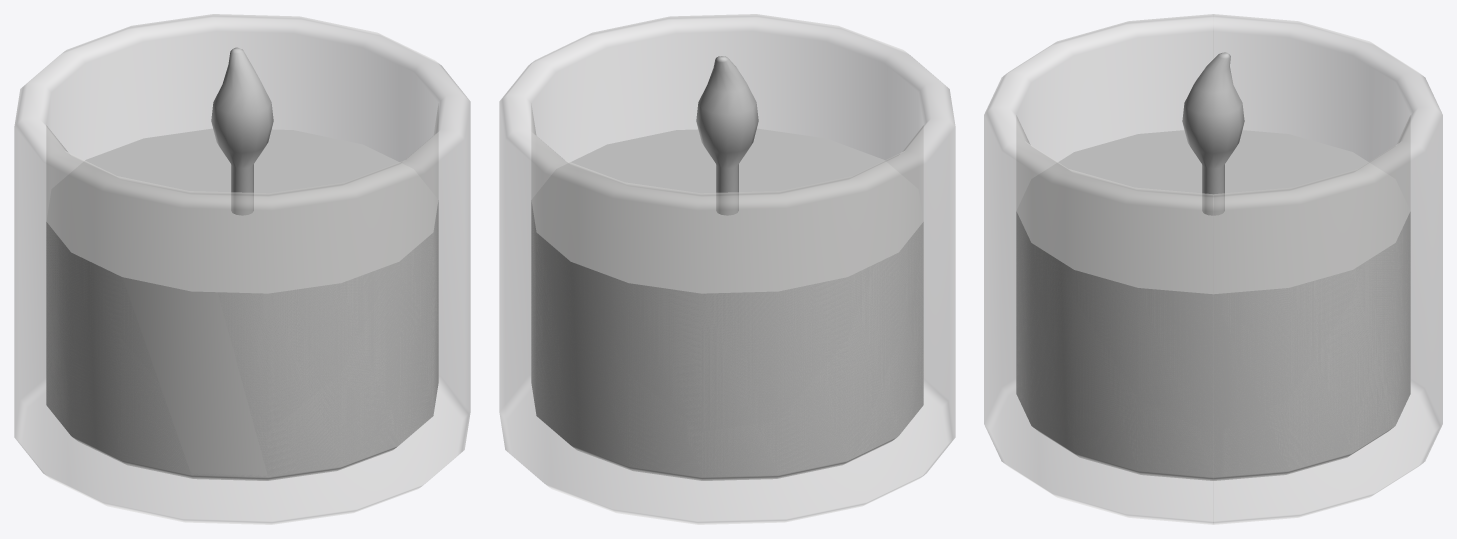
The model's file is Candle_3.fbx.
3 views of the same model, side by side, from view 1: azimuth 30°, elevation 25°; view 2: azimuth 150°, elevation 25°; view 3: azimuth 270°, elevation 25° (orthographic).
Parts seen in each view (by area): view 1: Candle_3; view 2: Candle_3; view 3: Candle_3.
Part boxes in pixels (x1=…): Candle_3: x1=14, y1=14, x2=470, y2=524; Candle_3: x1=499, y1=14, x2=955, y2=524; Candle_3: x1=984, y1=14, x2=1442, y2=524.
Bounding box in the file's own units: 18.83 × 17.1 × 18.83.
